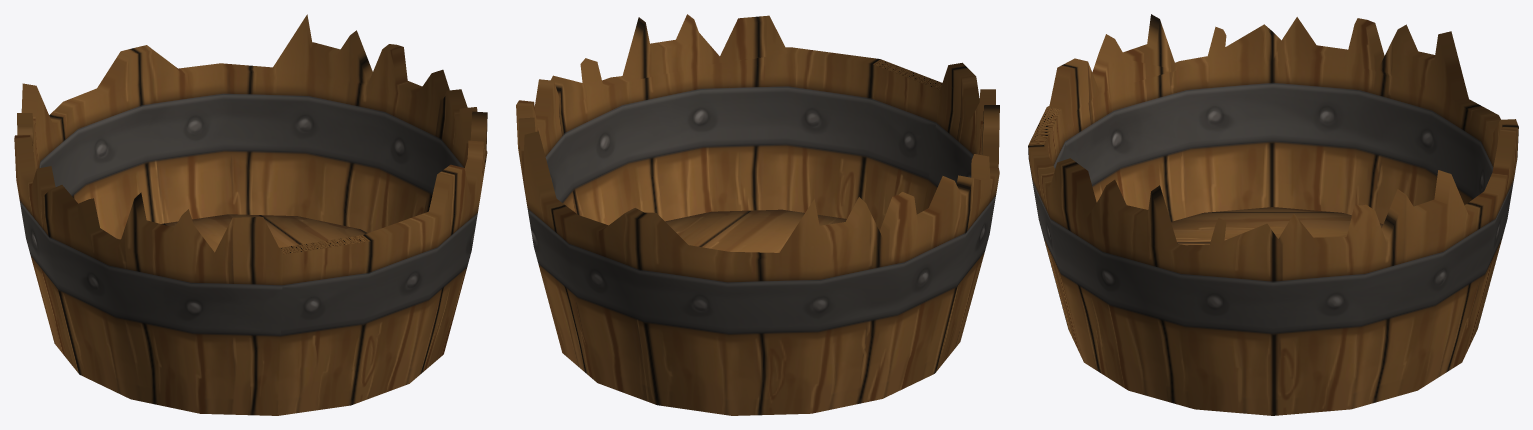
File: Barrel_Broken.fbx
3 renders of one model, left to right at view 1: azimuth 30°, elevation 25°; view 2: azimuth 150°, elevation 25°; view 3: azimuth 270°, elevation 25°, orthographic. The views are drawn at different scales.
Parts seen in each view (by area): view 1: Barrel_Broken; view 2: Barrel_Broken; view 3: Barrel_Broken.
Part boxes in pixels (left/top/right/bottom): Barrel_Broken: left=14, top=14, right=487, bottom=415; Barrel_Broken: left=516, top=14, right=999, bottom=415; Barrel_Broken: left=1028, top=14, right=1518, bottom=415.
Size of the model in its own units: 98.72 by 50.55 by 98.7.
